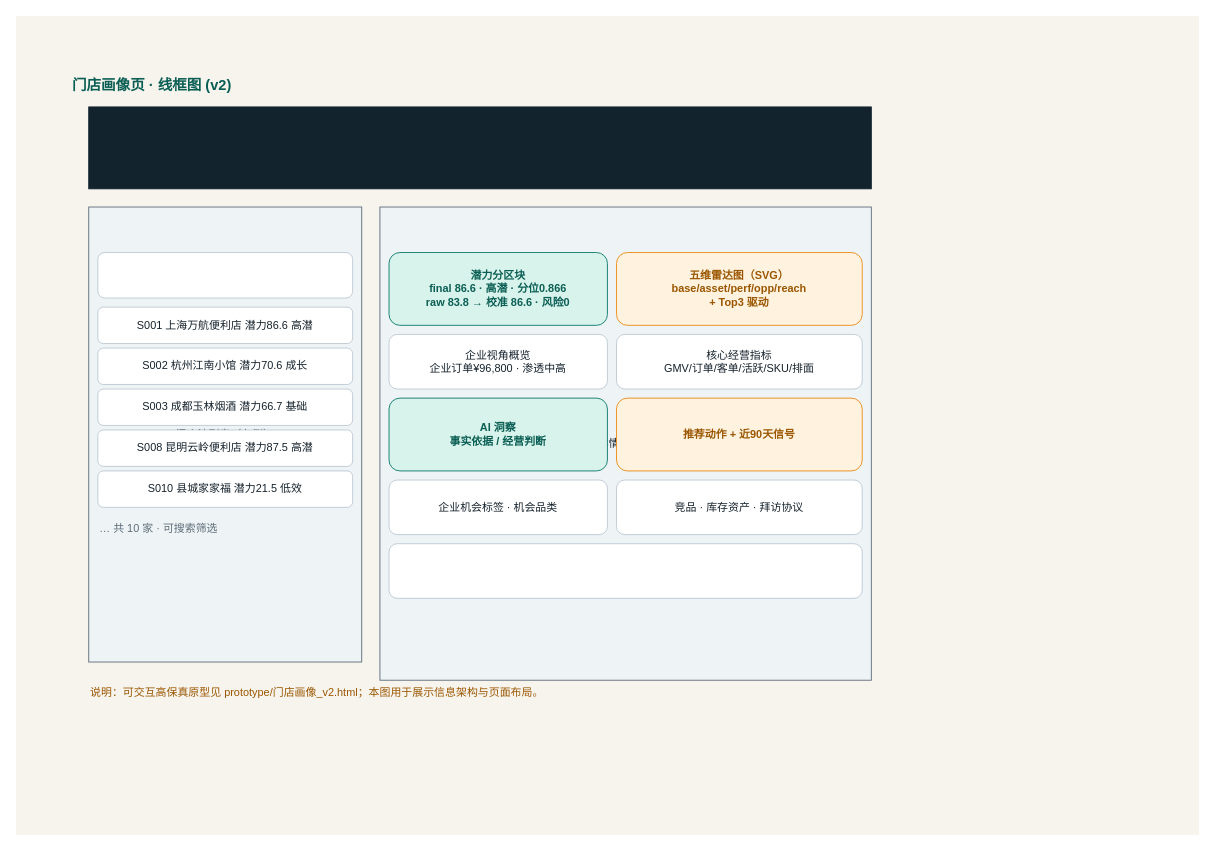
Some shapes in this 1214 by 850 pixel diagram are drawn without their labels. Here are the shapes that lost their labels. From the top down, the centre of each, then its label:
At (x=479, y=147): "顶部统计区 门店数10 · 高潜2 · 平均潜力分62 · 均单店GMV · 缺货3 · 业态6".
At (x=225, y=275): "搜索框 ｜ 城市层级 ｜ 业态 ｜ 潜力分层".
At (x=625, y=570): "门店全局标签 · 企业视角标签 · AI提示词面板".
